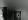person: (1, 8, 8, 20), (15, 12, 22, 20)
